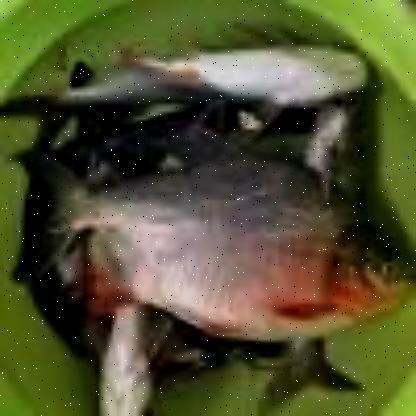ikan-pacu: (70, 158, 410, 340)
